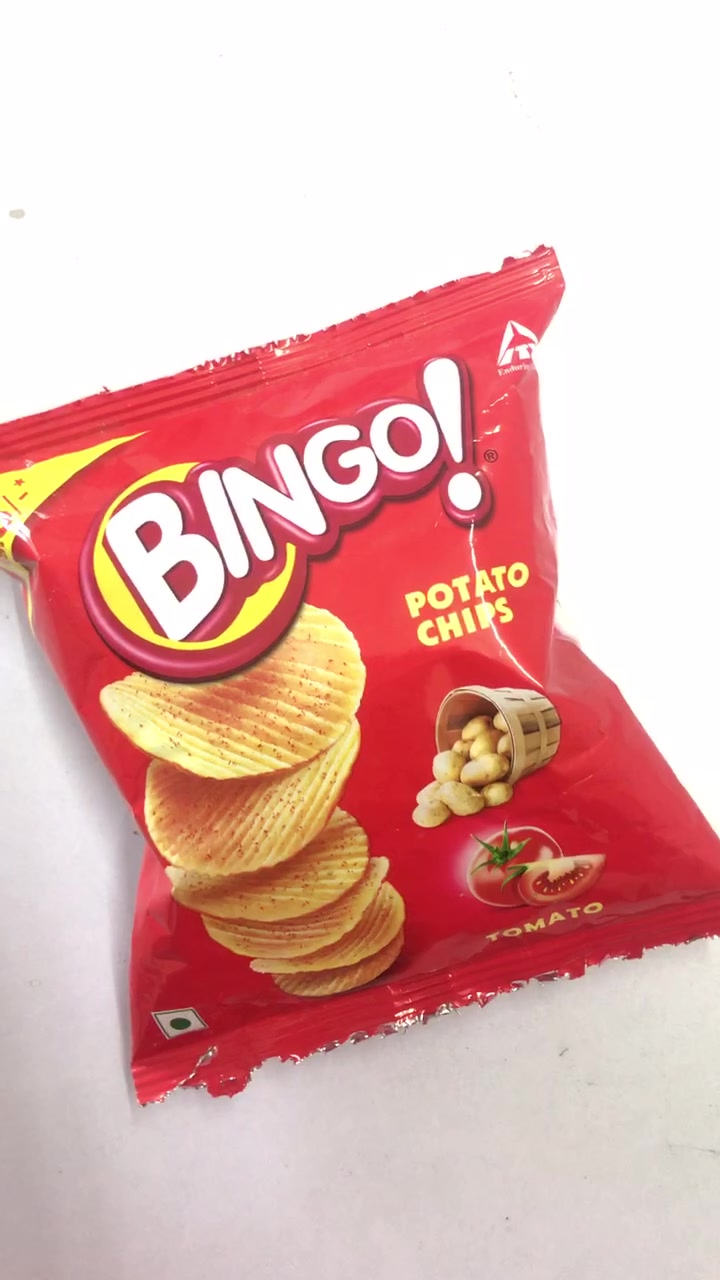Bingo: (1, 284, 720, 1062)
